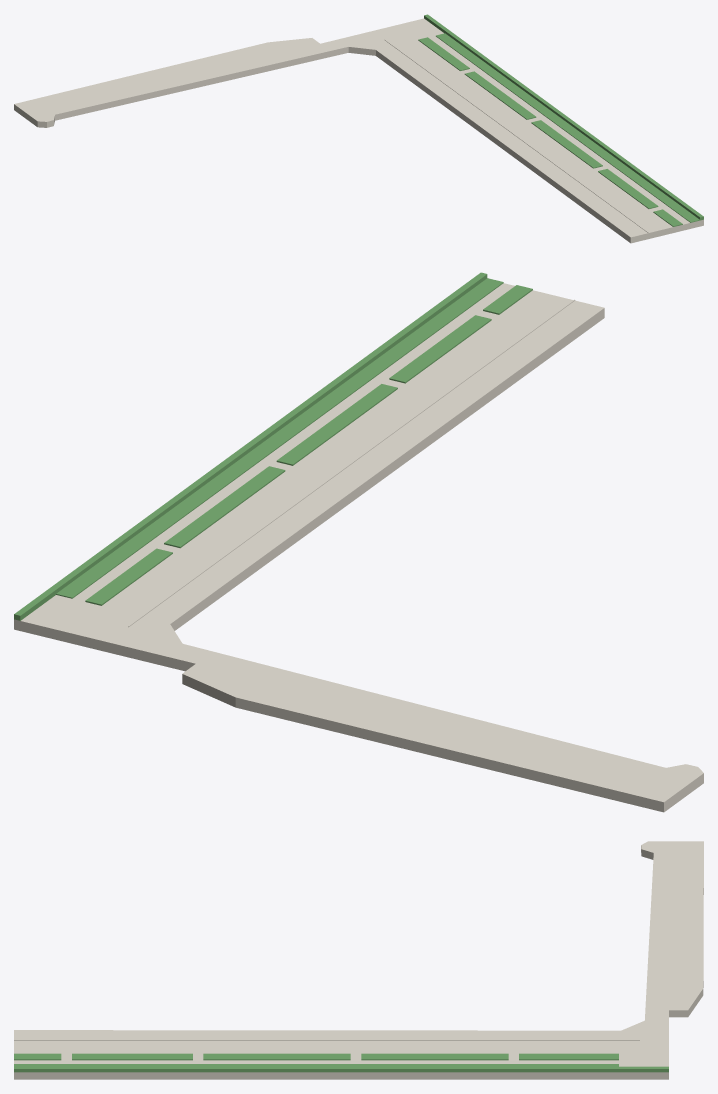
File: SM_Blockout_Passeggiata.fbx
The picture shows the model from 3 angles, top to bottom: view 1: azimuth 30°, elevation 25°; view 2: azimuth 150°, elevation 25°; view 3: azimuth 270°, elevation 25°; orthographic projection. The views are drawn at different scales.
Visible parts, largest first — view 1: SM_Blockout_Passeggiata_Lastra, SM_Blockout_Passeggiata_Molo, SM_Blockout_Passeggiata_Aiuole, SM_Blockout_Passeggiata_SiepeLimite, SM_Blockout_Passeggiata_Cordolo; view 2: SM_Blockout_Passeggiata_Lastra, SM_Blockout_Passeggiata_Molo, SM_Blockout_Passeggiata_Aiuole, SM_Blockout_Passeggiata_SiepeLimite, SM_Blockout_Passeggiata_Cordolo; view 3: SM_Blockout_Passeggiata_Lastra, SM_Blockout_Passeggiata_Molo, SM_Blockout_Passeggiata_Aiuole, SM_Blockout_Passeggiata_SiepeLimite, SM_Blockout_Passeggiata_Cordolo.
Boxes of the visible parts, bbox=[...] form: SM_Blockout_Passeggiata_Lastra: bbox=[320, 18, 703, 243]; SM_Blockout_Passeggiata_Molo: bbox=[14, 38, 330, 127]; SM_Blockout_Passeggiata_Aiuole: bbox=[418, 33, 699, 226]; SM_Blockout_Passeggiata_SiepeLimite: bbox=[424, 14, 703, 220]; SM_Blockout_Passeggiata_Cordolo: bbox=[384, 39, 648, 232]; SM_Blockout_Passeggiata_Lastra: bbox=[14, 283, 604, 671]; SM_Blockout_Passeggiata_Molo: bbox=[182, 651, 703, 812]; SM_Blockout_Passeggiata_Aiuole: bbox=[56, 278, 532, 605]; SM_Blockout_Passeggiata_SiepeLimite: bbox=[14, 272, 487, 620]; SM_Blockout_Passeggiata_Cordolo: bbox=[128, 299, 575, 627]; SM_Blockout_Passeggiata_Lastra: bbox=[14, 1010, 668, 1079]; SM_Blockout_Passeggiata_Molo: bbox=[641, 841, 703, 1017]; SM_Blockout_Passeggiata_Aiuole: bbox=[14, 1053, 618, 1066]; SM_Blockout_Passeggiata_SiepeLimite: bbox=[14, 1066, 668, 1072]; SM_Blockout_Passeggiata_Cordolo: bbox=[14, 1039, 639, 1040].
Size of what is drawn, in the model's own units: 20780 by 26230 by 450.
